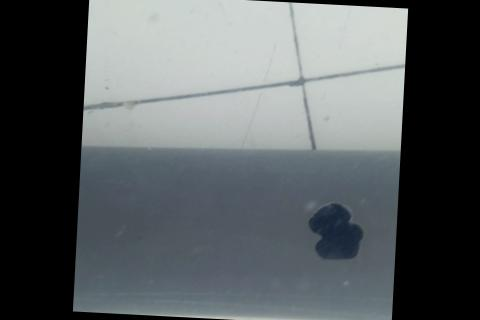kebocoran: (304, 200, 365, 263)
